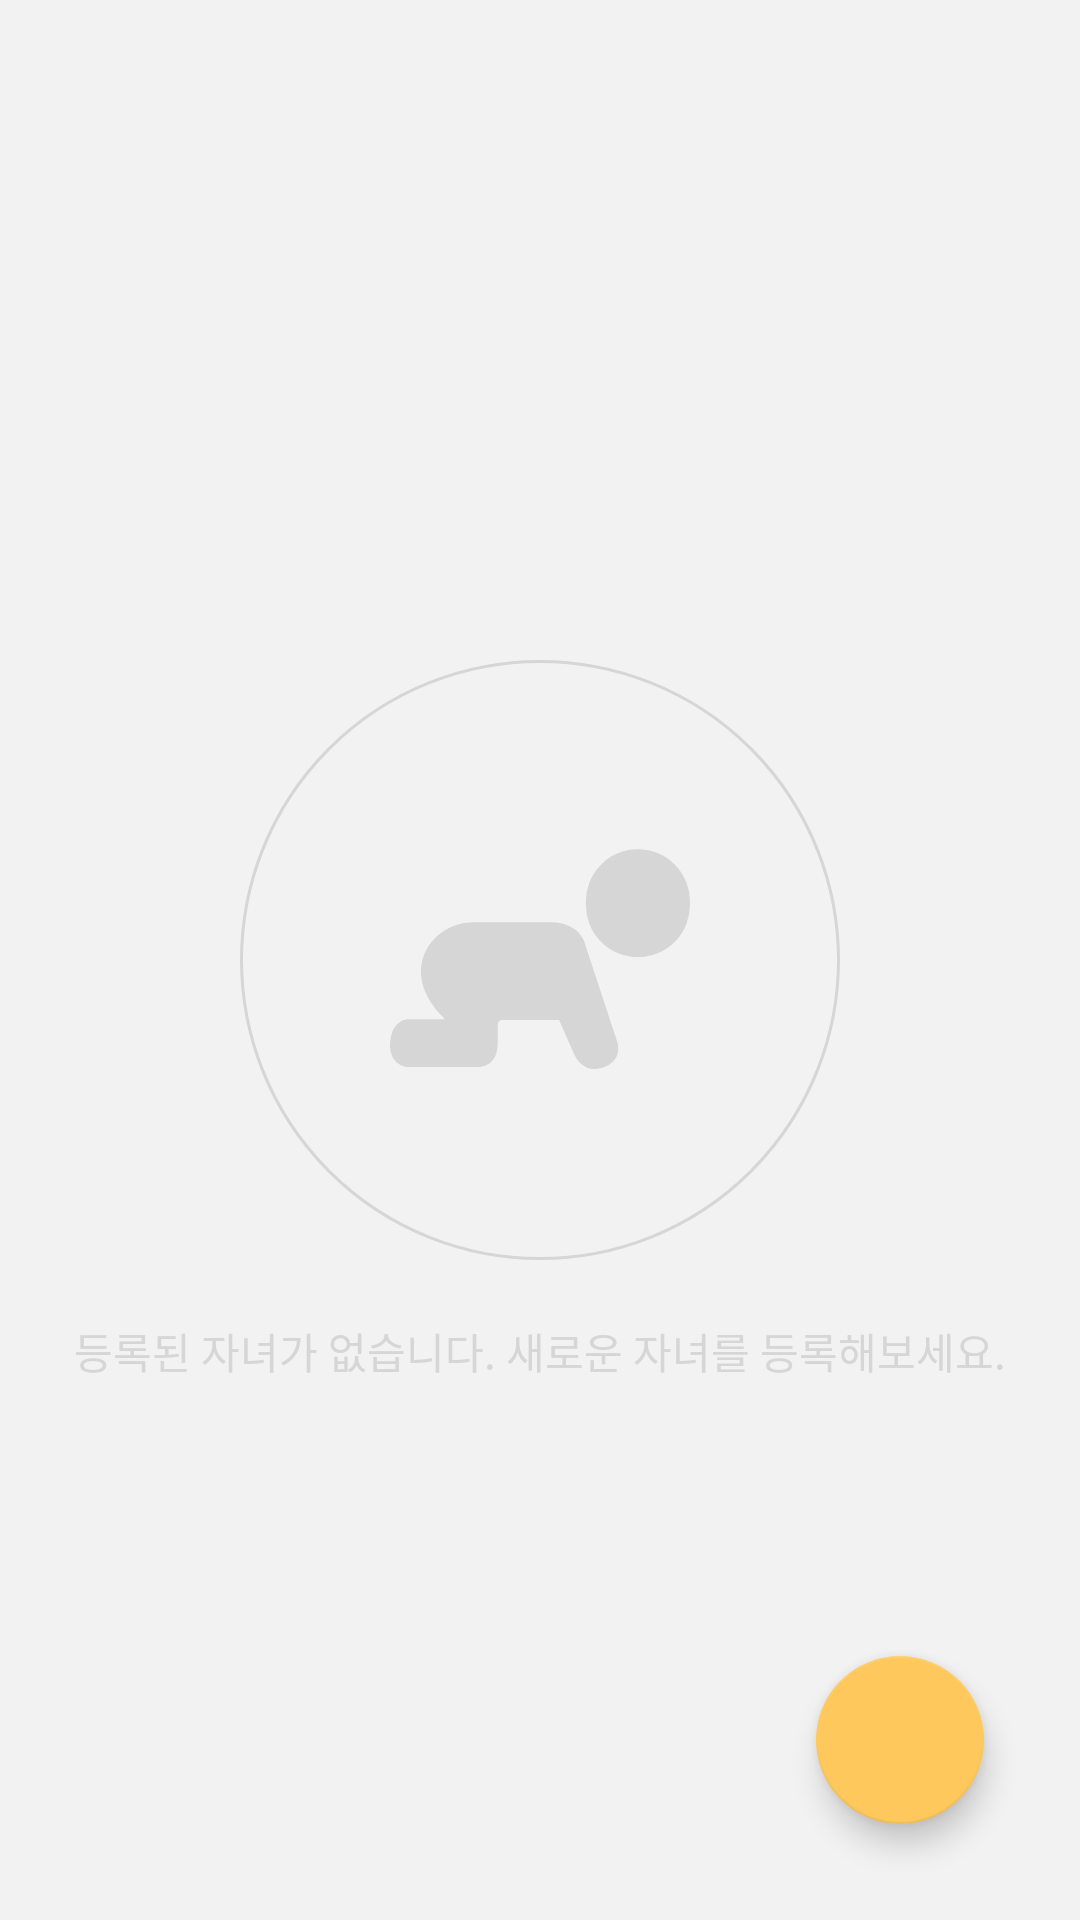

Where icons sit on this 1080×1920 app screen, as (x1, y1, x2, y2):
baby: (390, 850, 690, 1069)
